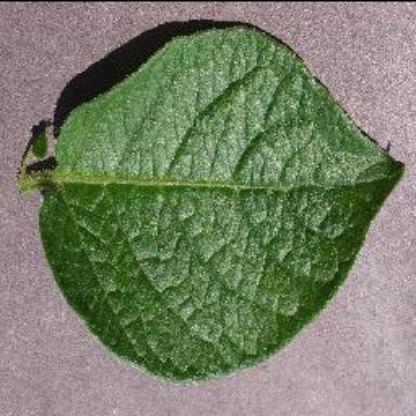Healthy-plant: (20, 13, 402, 385)
